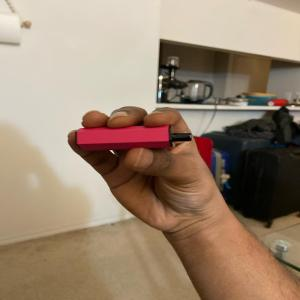Blume-E-Ciggirate: (71, 122, 196, 152)
